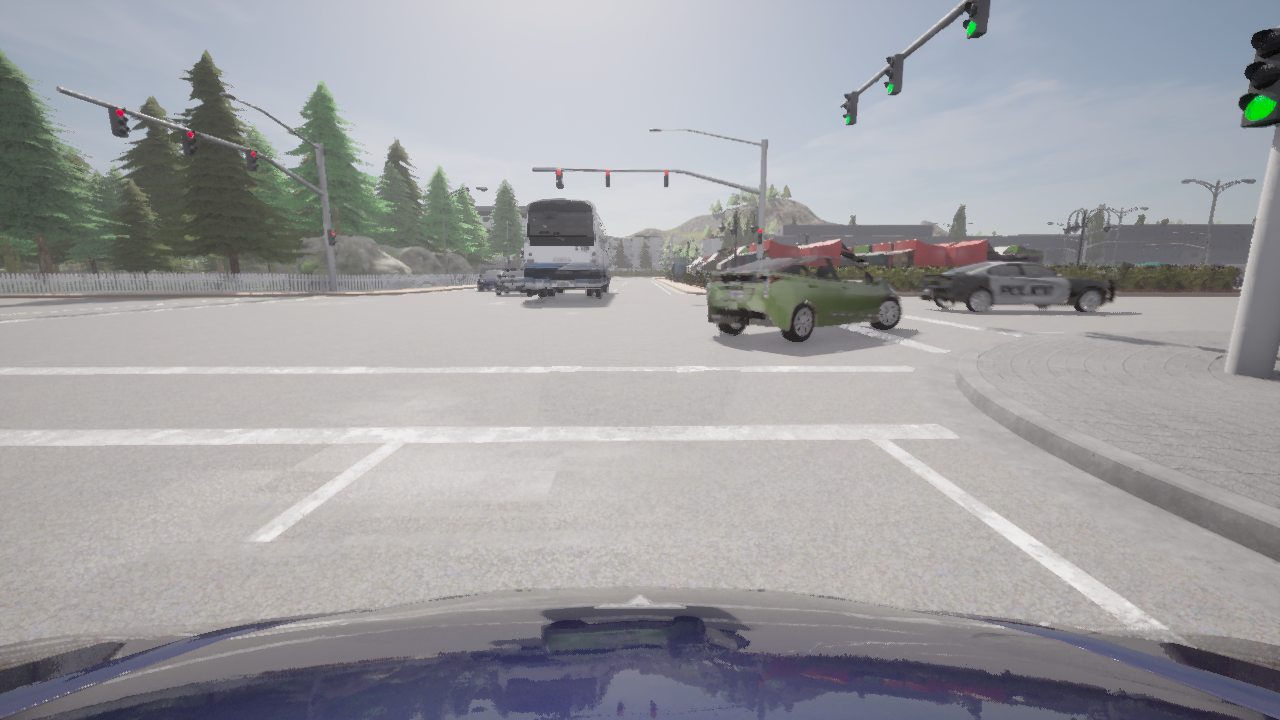cyclist: (0, 588, 1279, 719), (706, 256, 902, 343), (918, 256, 1115, 313), (524, 199, 612, 297), (494, 269, 537, 295), (478, 269, 506, 291), (1233, 271, 1244, 285), (520, 247, 524, 268), (1195, 264, 1225, 265), (1239, 269, 1244, 271)
